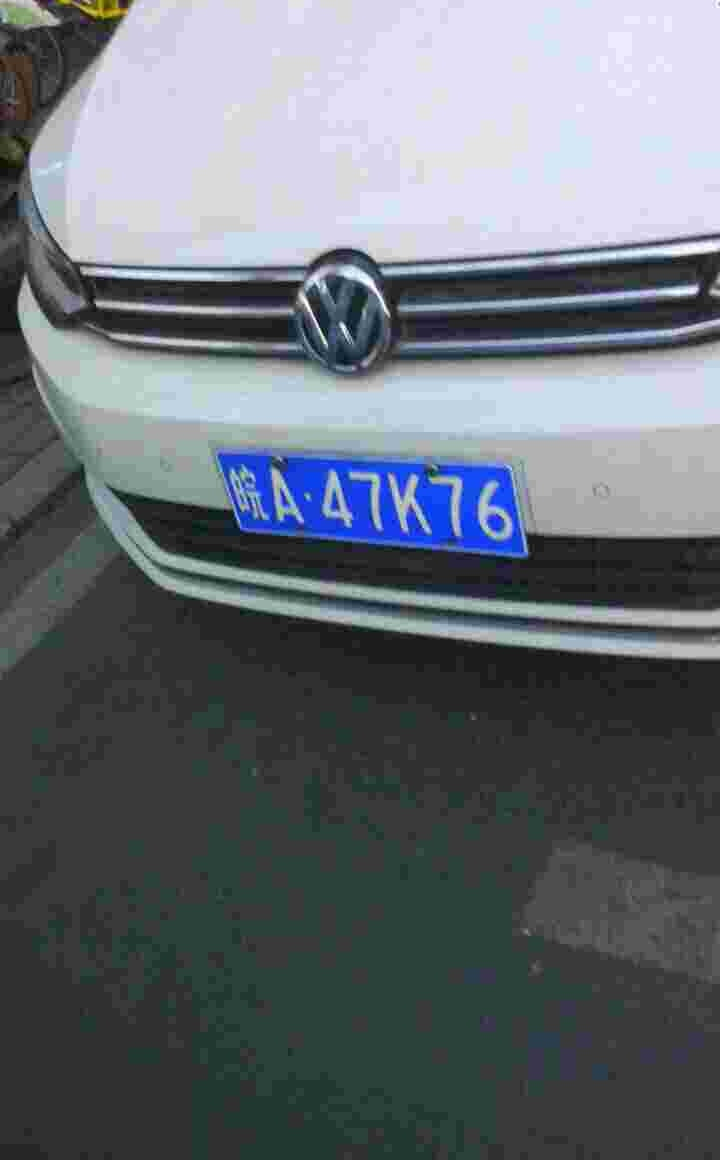license_plate: (224, 447, 539, 563)
